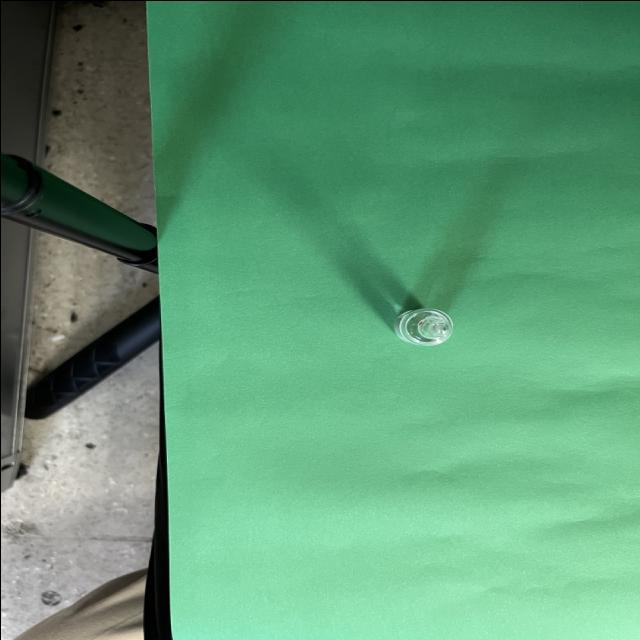Ampoules: (393, 306, 451, 345)
